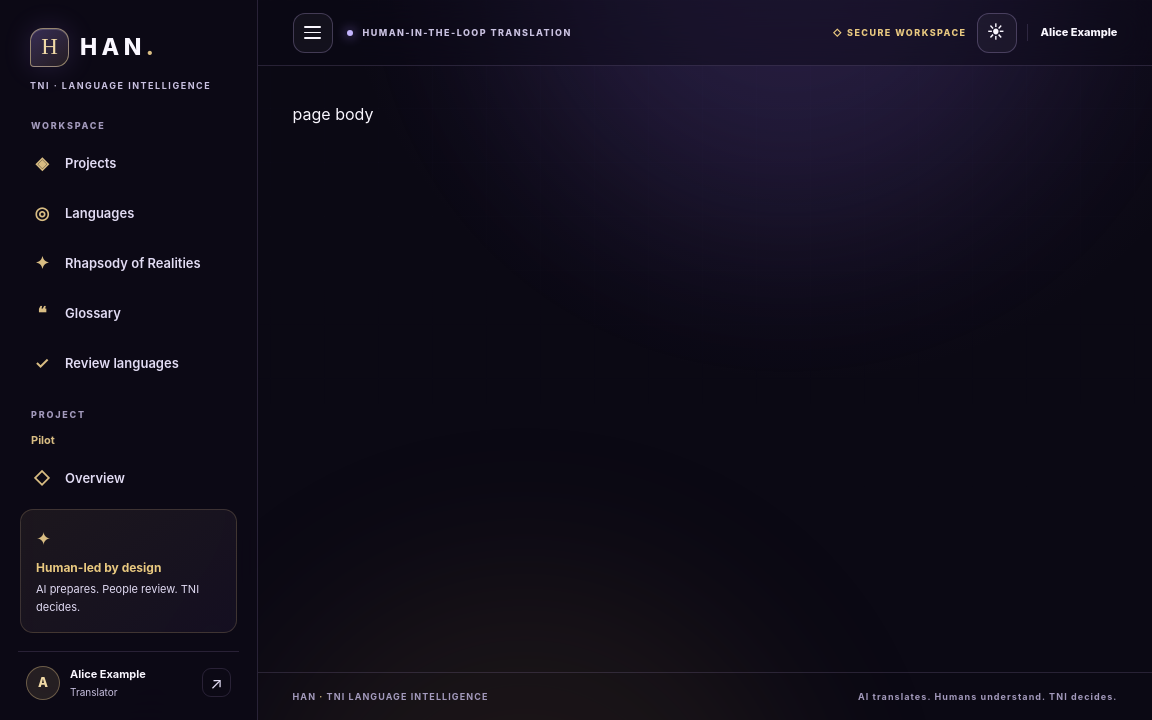
Test case: toggleable menu › collapses to an icon rail on desktop, remembers the choice and expands again
Click the button named "Hide navigation menu".
click(312, 32)  # box [292,12,332,52]
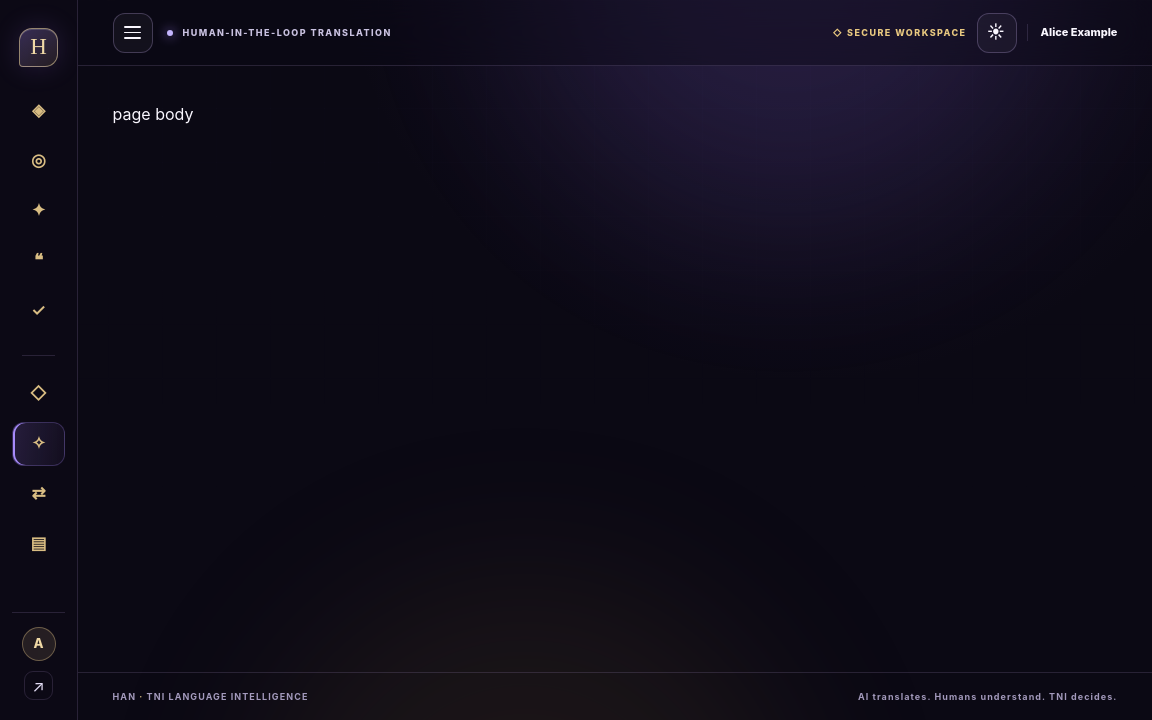
Expected: the button named "Show navigation menu" is collapsed
Expected: the link named "HAN Chat" is shown, [12,422,65,466]
Click the button named "Show navigation menu".
click(132, 32)  # box [112,12,152,52]
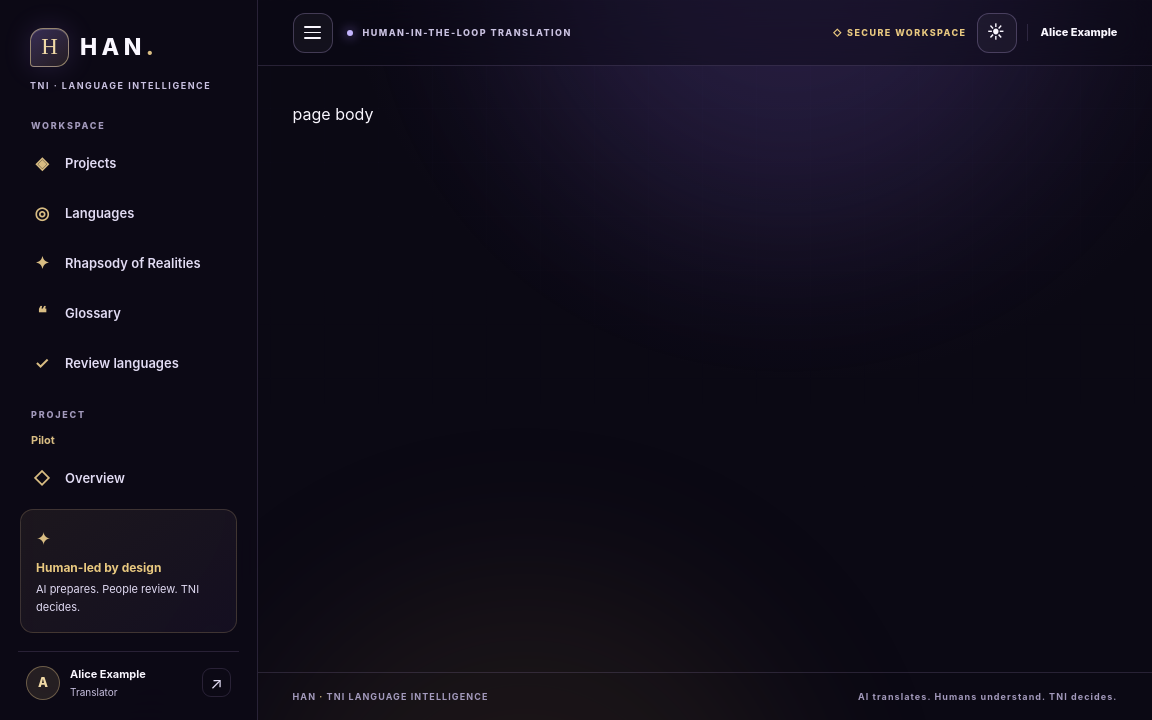
Expected: the element with class "han-app" does not have class "is-collapsed"
